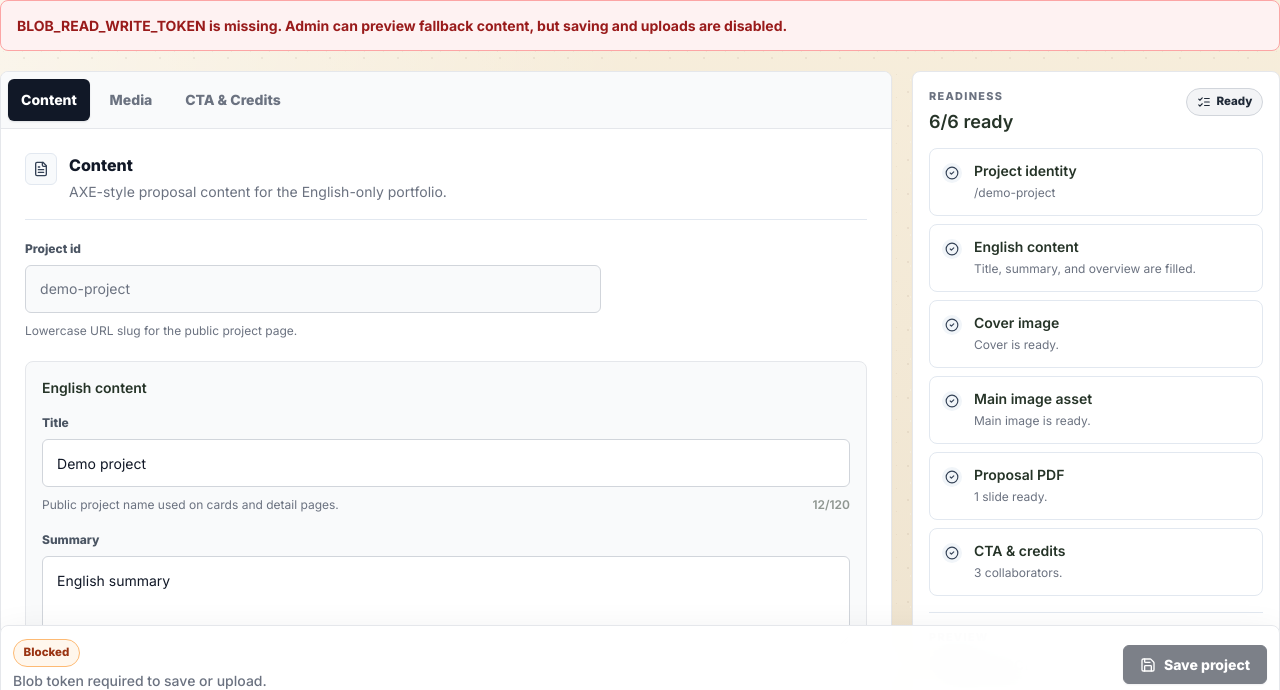
Test case: AdminProjectForm basics › disables saving and uploading when Blob storage is not configured
Expected: the text "BLOB_READ_WRITE_TOKEN is missing" is shown, [17,17,787,34]
Expected: the button "Save project" is disabled, [1123,645,1267,684]
What coordinates should you click on to do the following:
click the tab "Media"
I would click on:
 (131, 100)
Its box is [97,79,165,121].
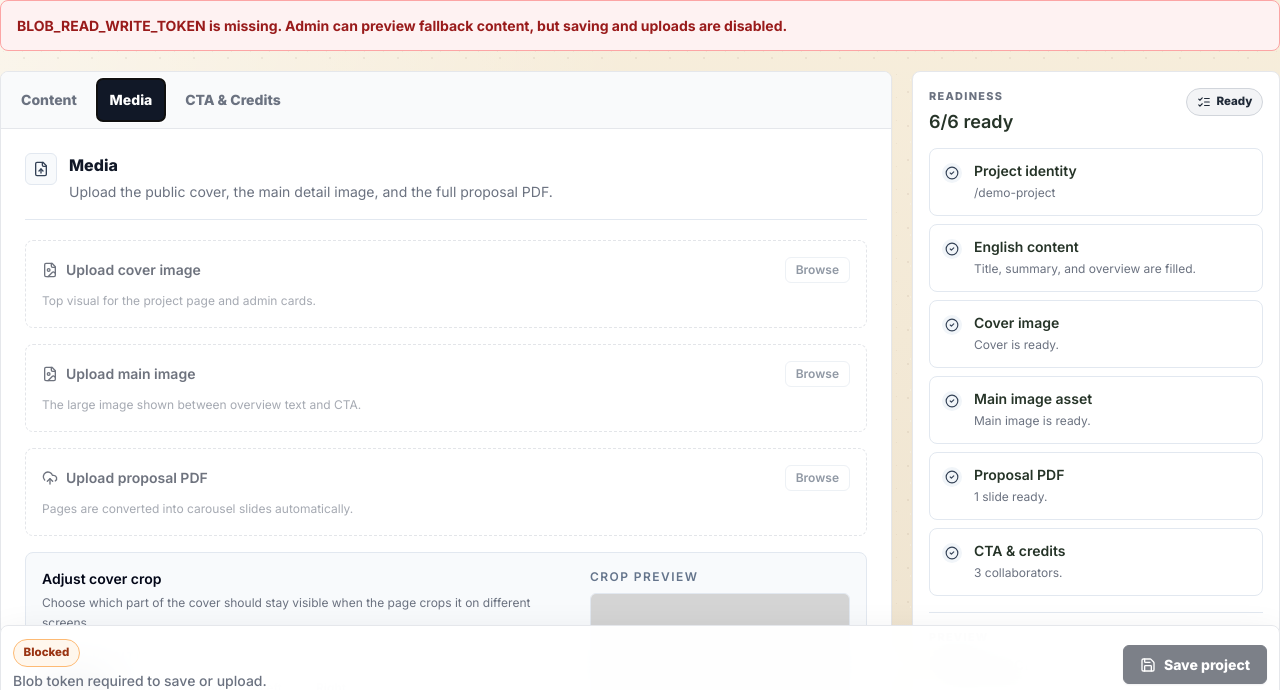
Now the file field labelled "Upload cover image" is disabled, box [25,240,867,328]
